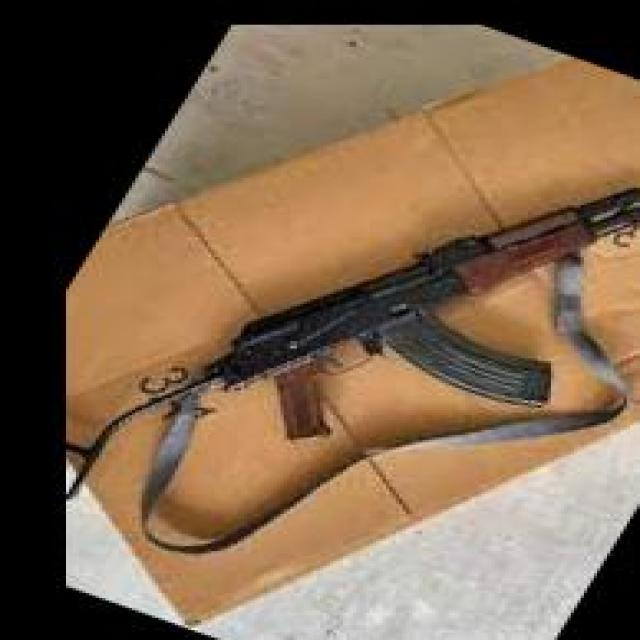weapon: (67, 185, 640, 500)
